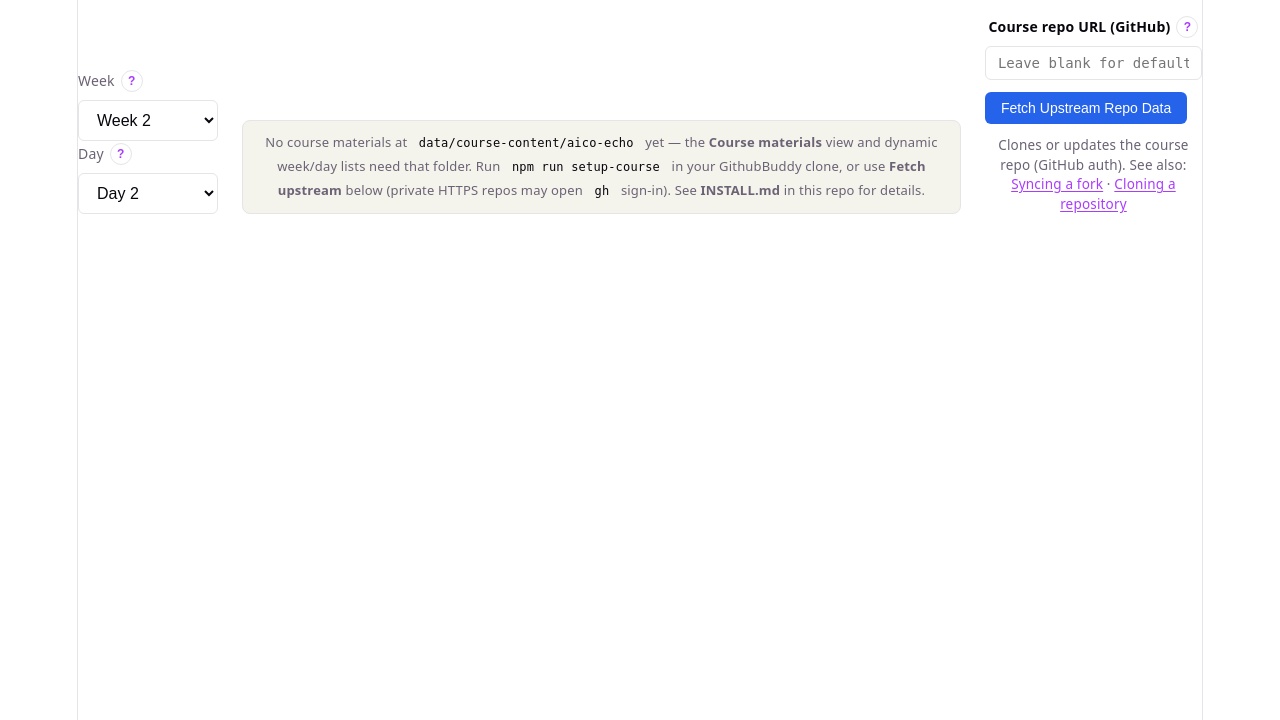
Scenario: DaySelector › fetch upstream: GH_CLI_MISSING shows install-gh toast copy
Click the button "Fetch Upstream Repo Data" at (1086, 108), box [985,92,1187,124]
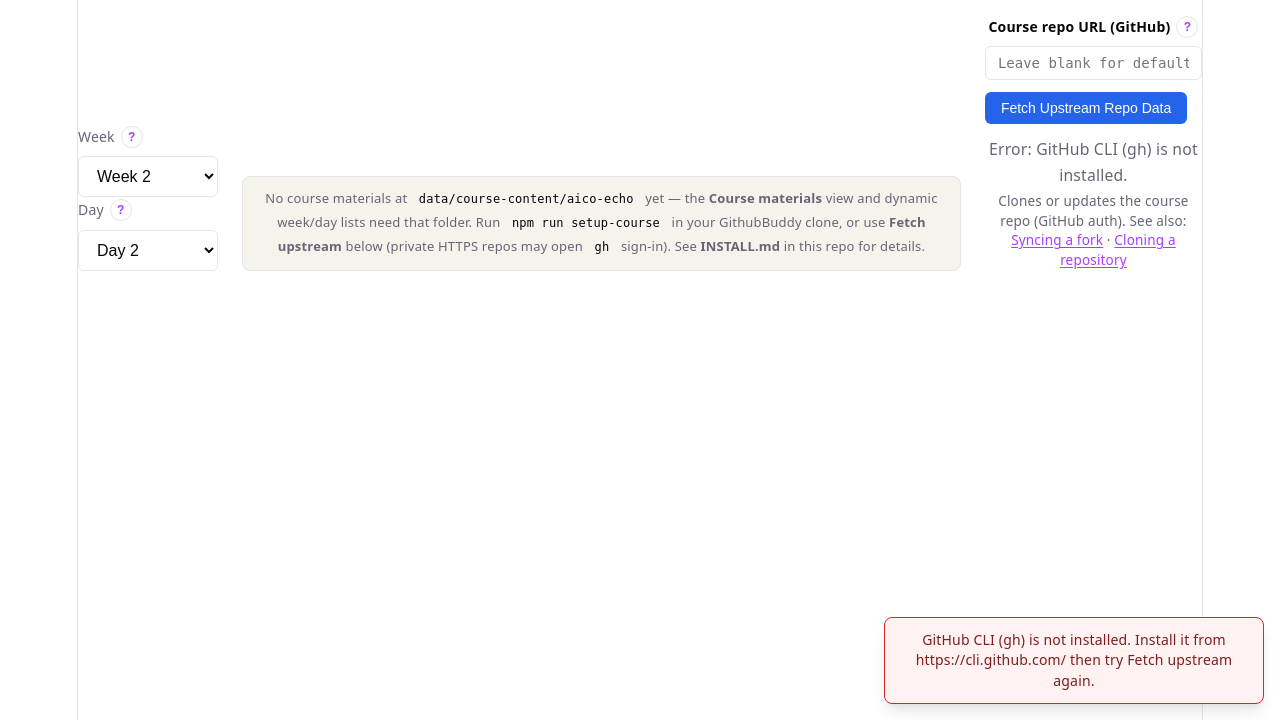
Now the text "cli.github.com" is shown, box [916,630,1232,690]
